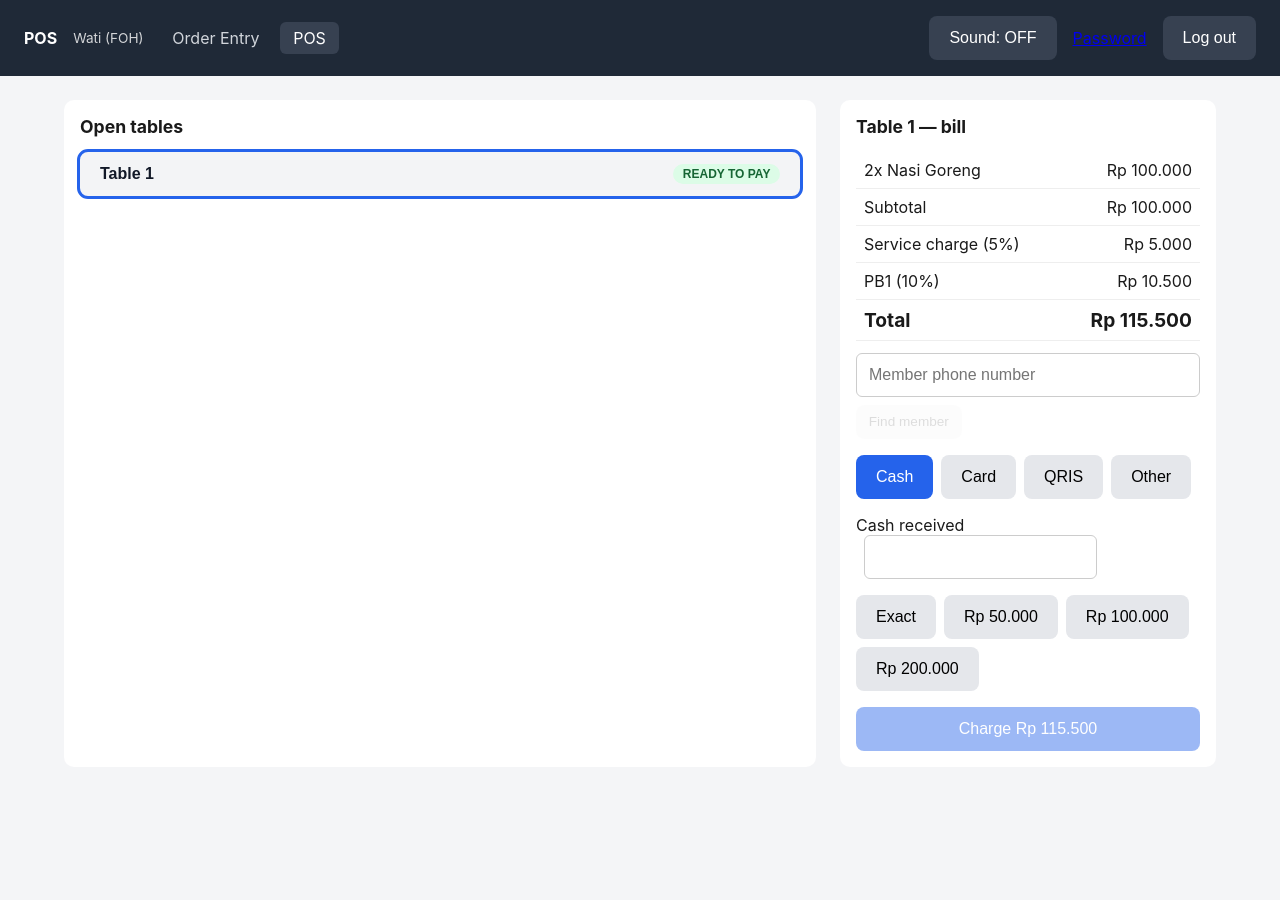
Scenario: POS: member discount, service charge and tax › shows the breakdown, applies a member found by phone, and pays with the member
This screenshot has width=1280, height=900.
Expected: the text "Service charge (5%)" is shown, x1=856 y1=225 x2=1060 y2=262
Expected: the text "PB1 (10%)" is shown, x1=856 y1=262 x2=1060 y2=299
Type "0812 3456 789" into the field labelled "Member phone number" at (1028, 375), box x1=856 y1=353 x2=1200 y2=397
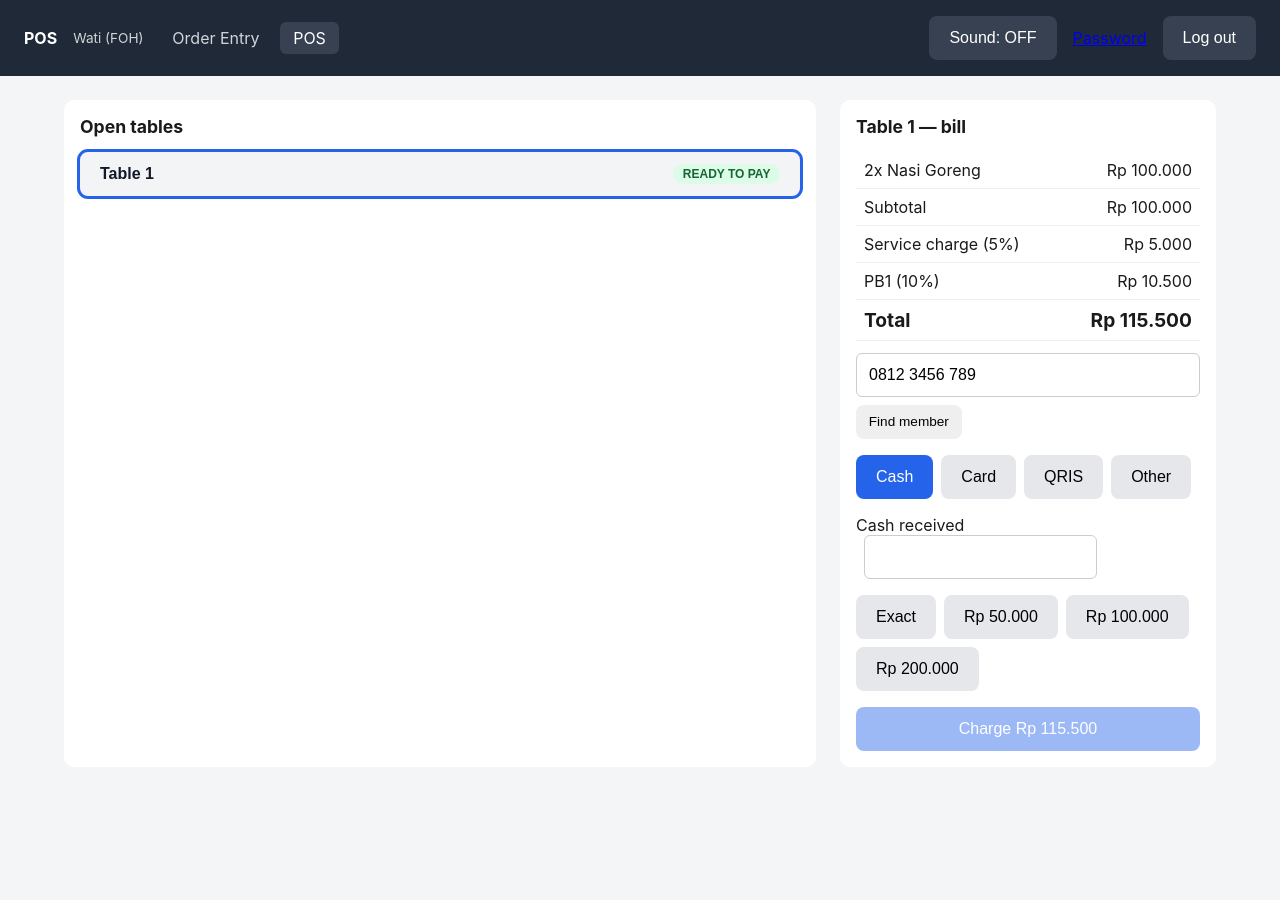
Click the button "Find member" at (909, 422), box x1=856 y1=405 x2=962 y2=439
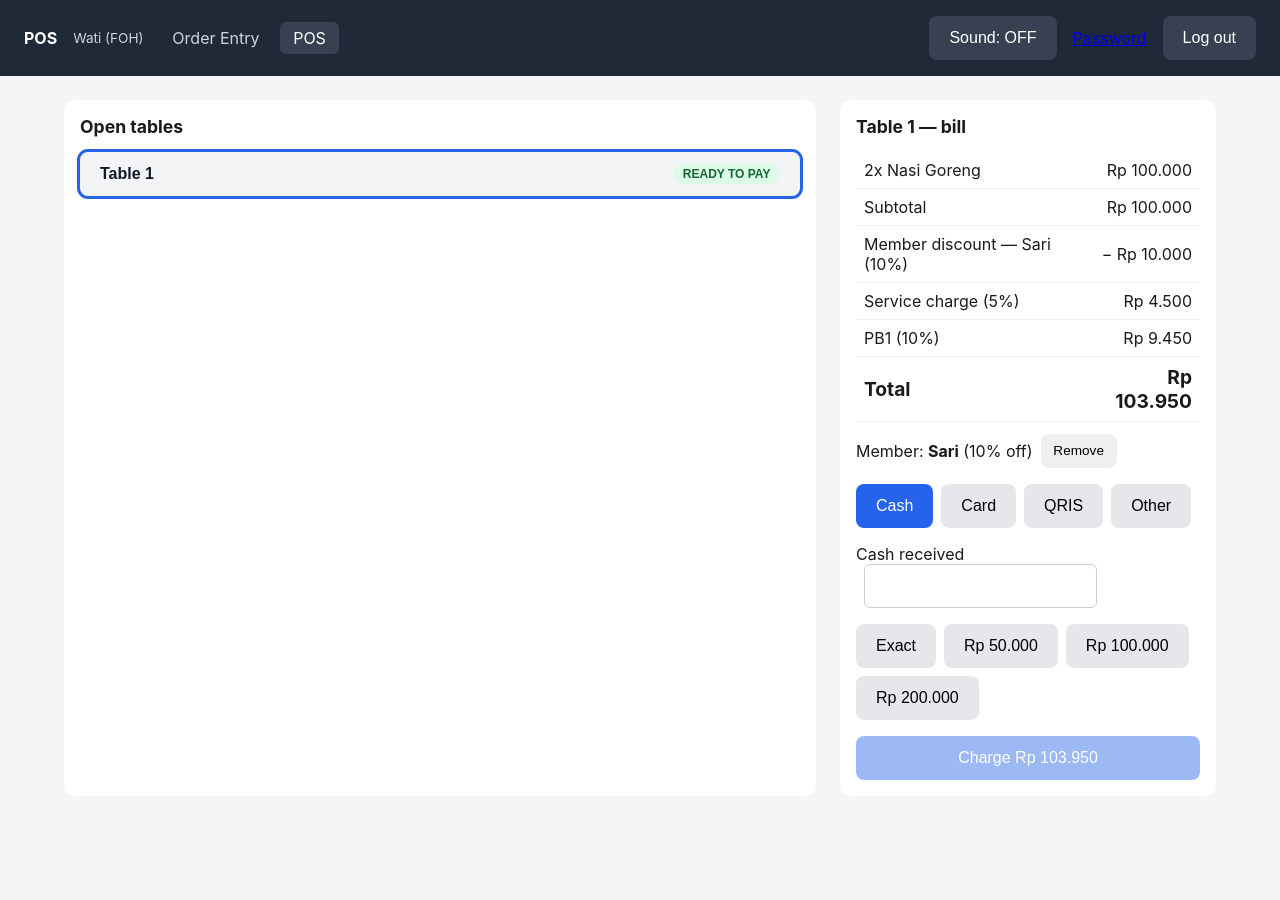
Expected: the text "Member discount — Sari (10%)" is shown, x1=856 y1=225 x2=1082 y2=282
Click the button "Card" at (979, 506), box x1=941 y1=484 x2=1016 y2=528
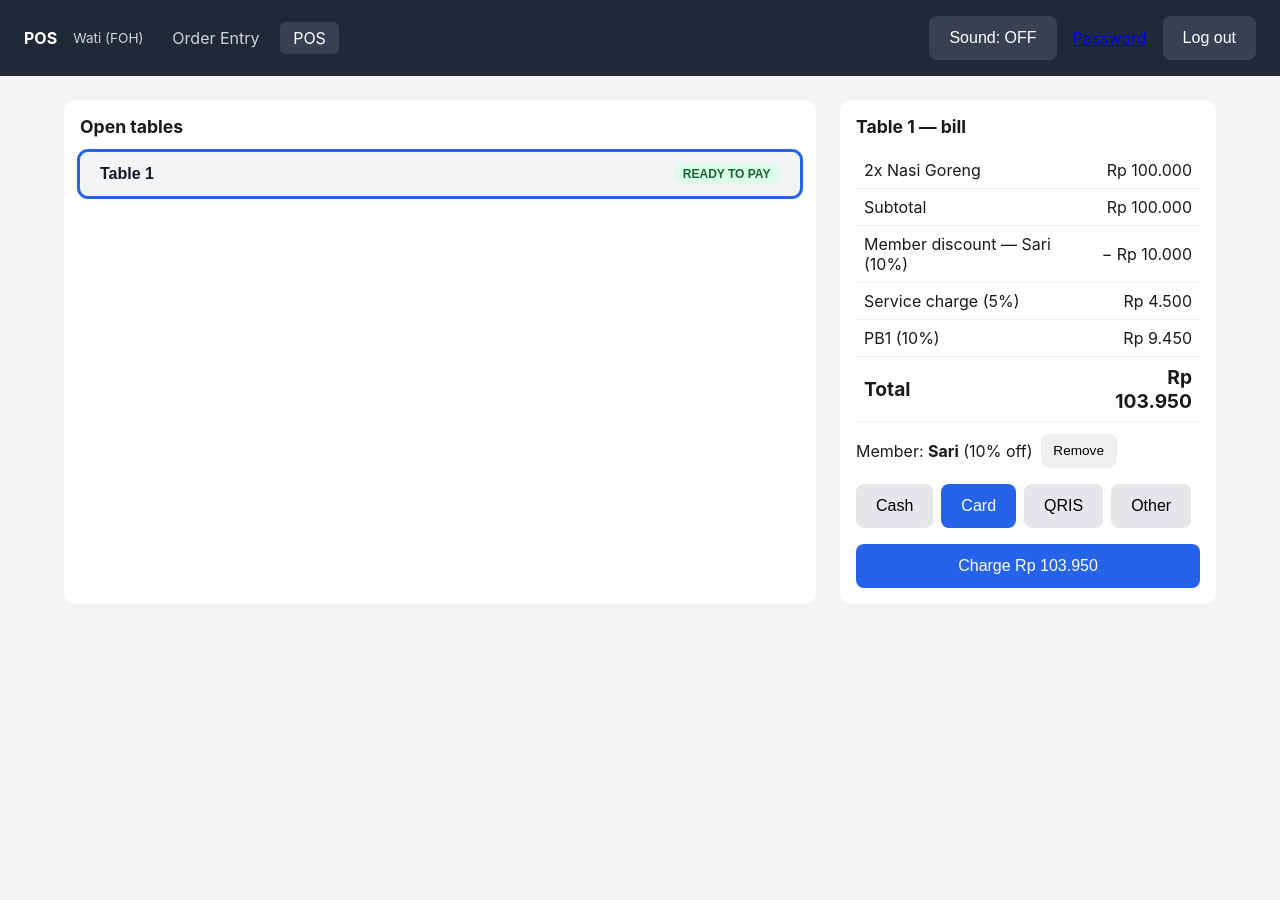
Click the button "Charge Rp 103.950" at (1028, 566), box x1=856 y1=544 x2=1200 y2=588
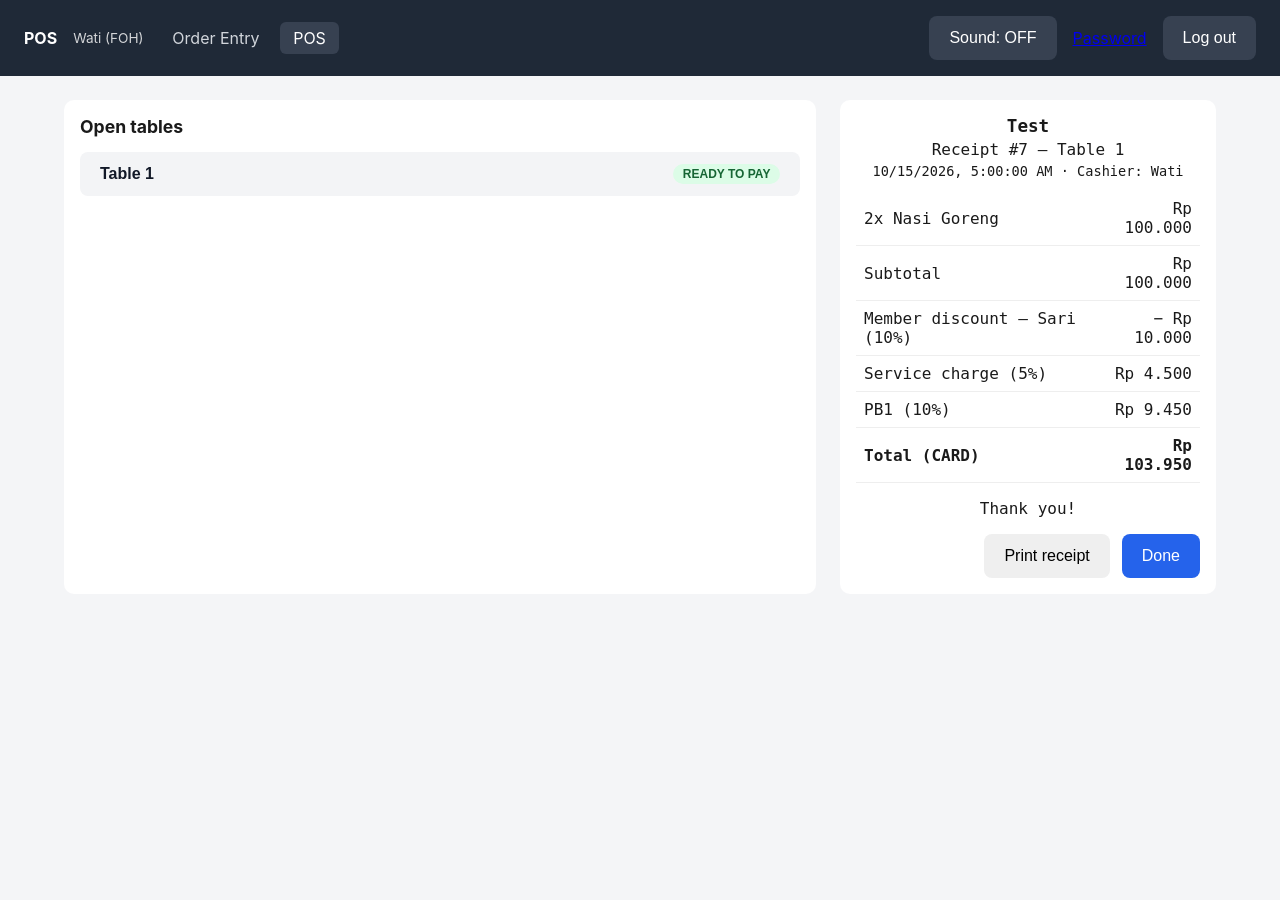
Expected: the text "Member discount — Sari (10%)" is shown, x1=856 y1=300 x2=1089 y2=356
Expected: the text "Receipt #7 — Table 1" is shown, x1=932 y1=140 x2=1124 y2=159
